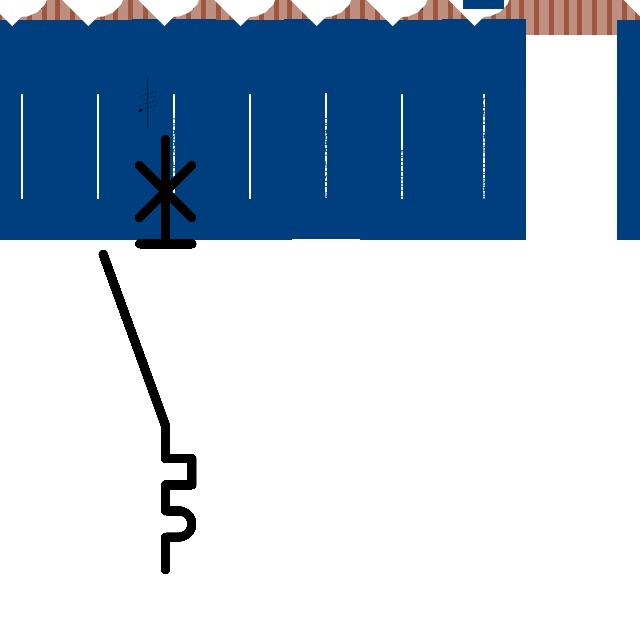interruptor_termomagnetico: (92, 128, 203, 581)
